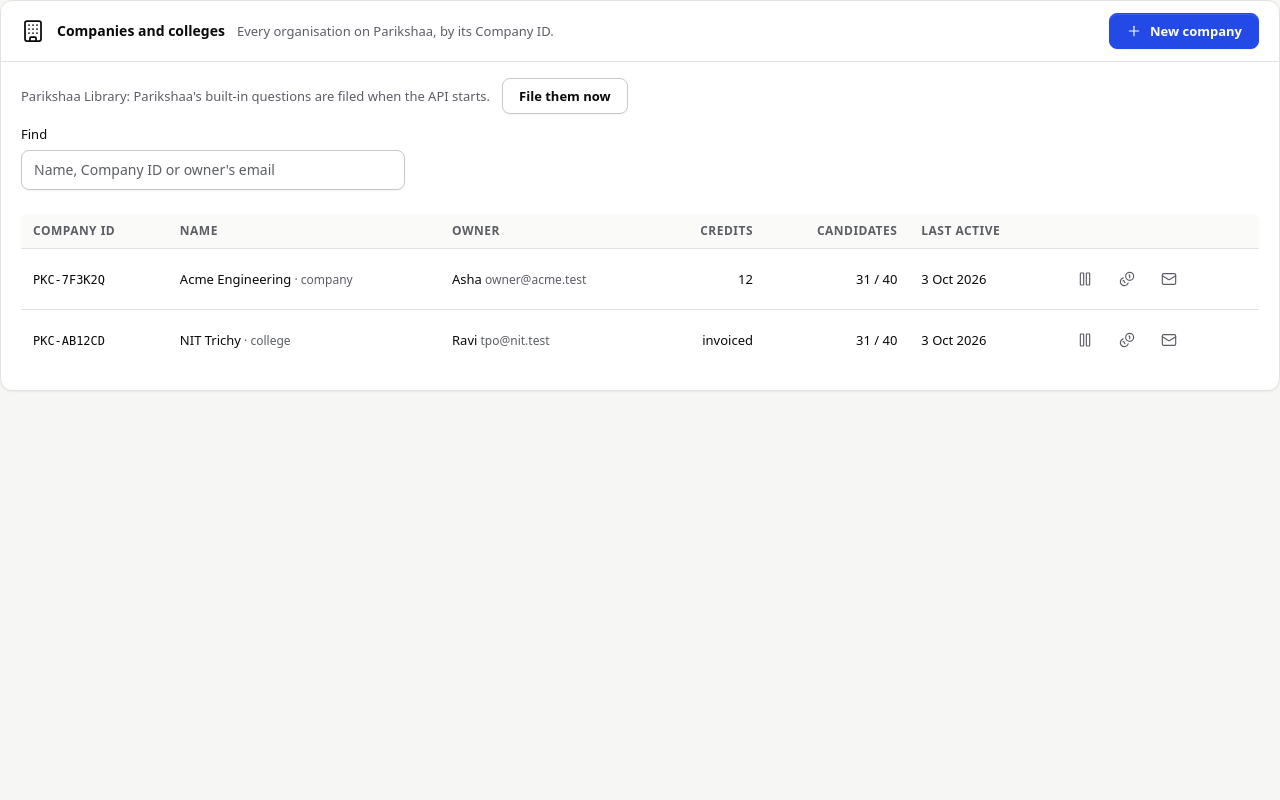
it: the operator panel › files Parikshaa's built-in questions in the library again
Click the button "File them now" at [565, 96], box x1=502 y1=78 x2=628 y2=114
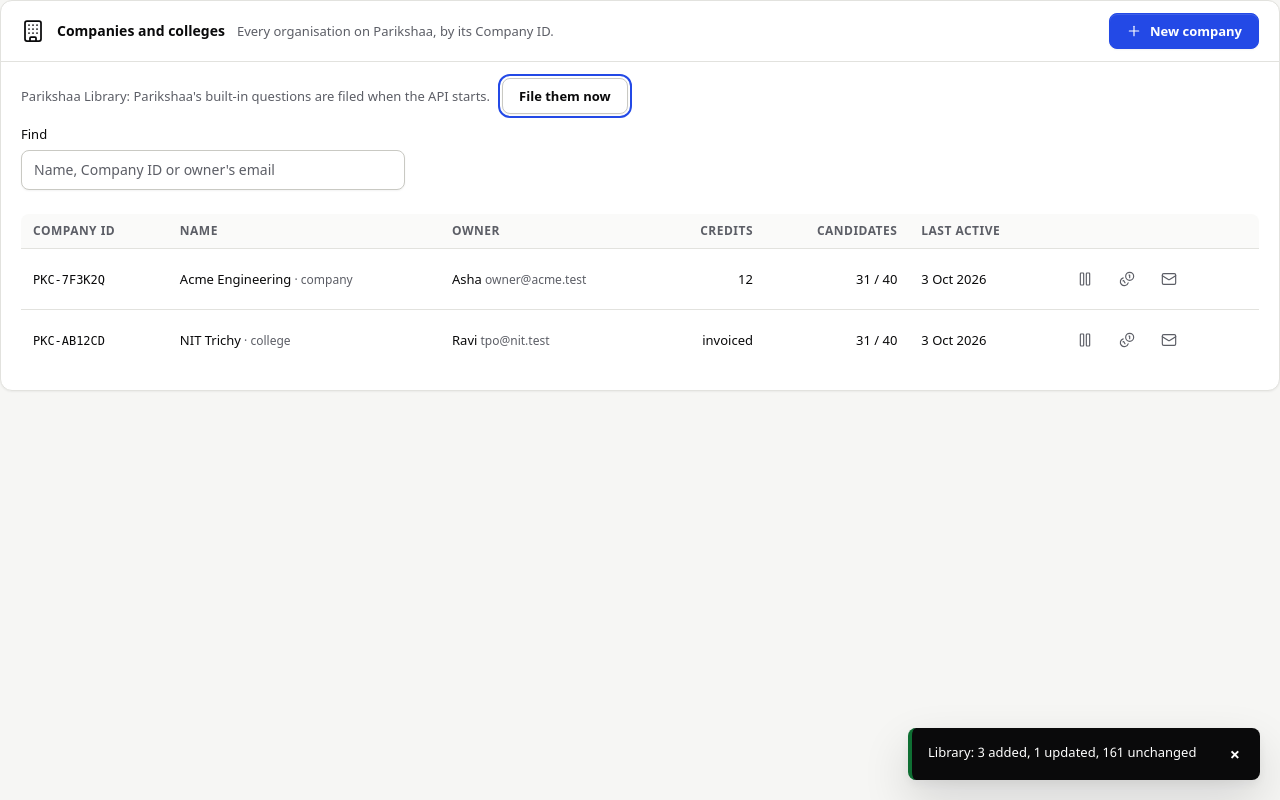
Now the text "Library: 3 added, 1 updated, 161 unchanged" is shown, box x1=928 y1=744 x2=1210 y2=764
